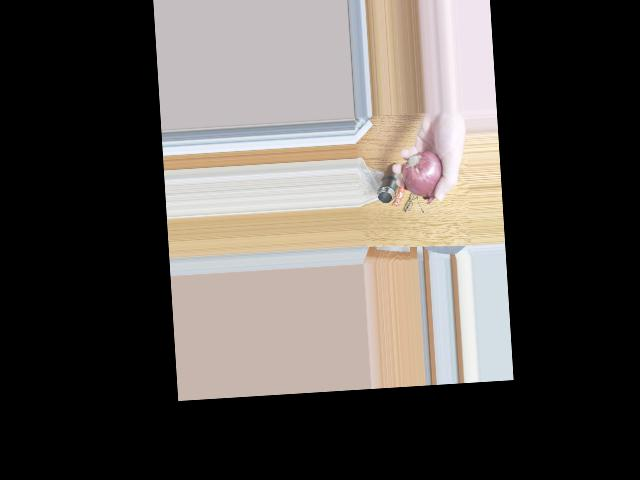onion: (404, 160, 439, 196)
